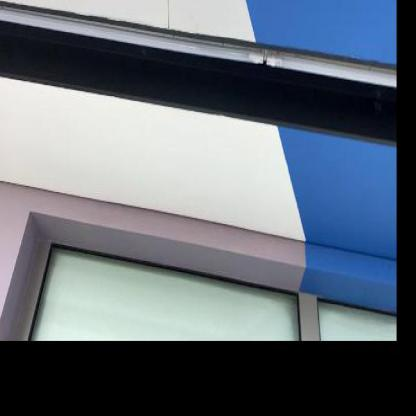light_off: (0, 0, 395, 105)
